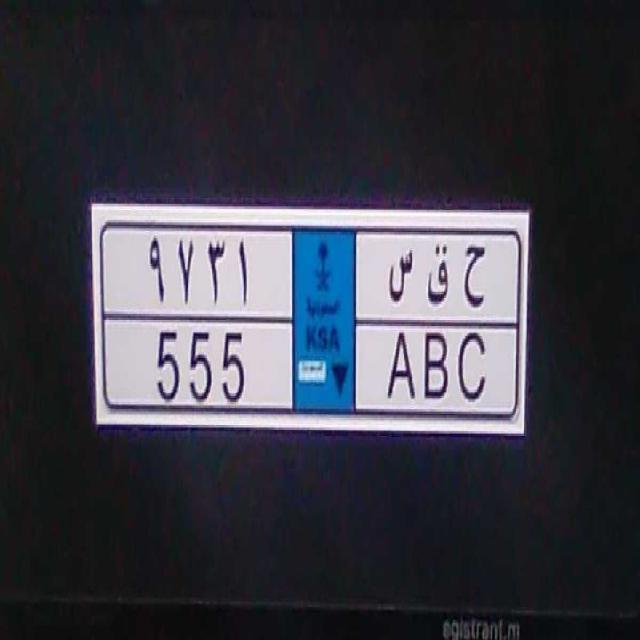license_plate: (105, 314, 506, 424)
